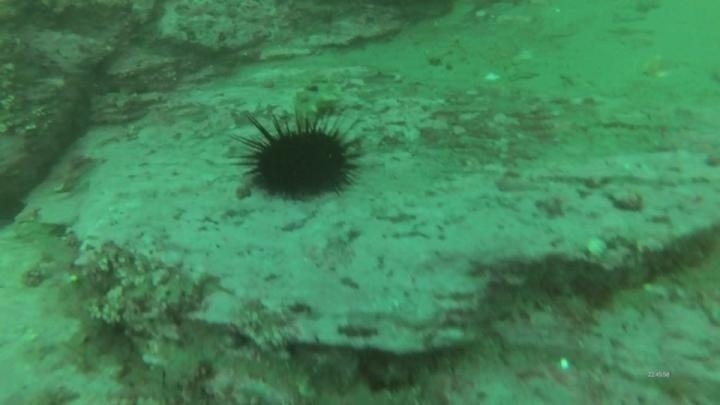echinus: (234, 110, 364, 203)
holothurian: (288, 77, 344, 126)
